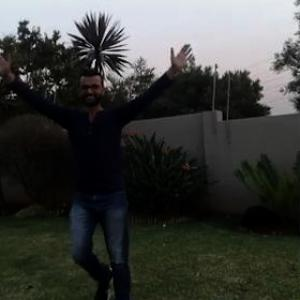takeoff: (4, 55, 189, 299)
